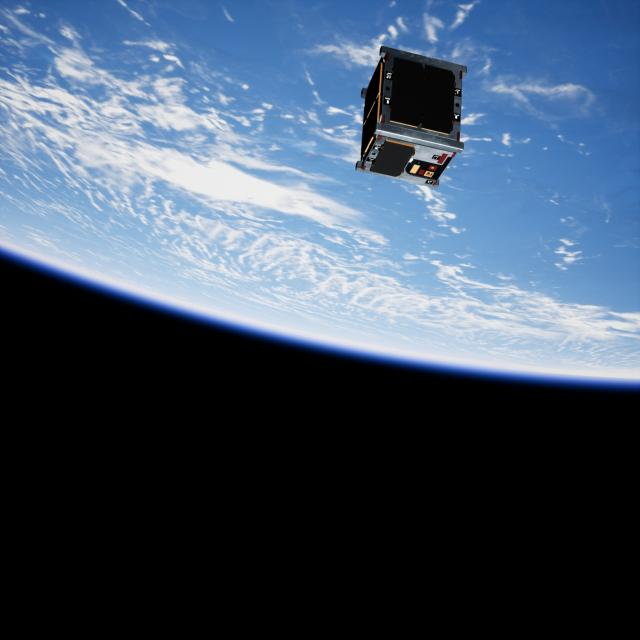medium_debris: (356, 45, 470, 183)
